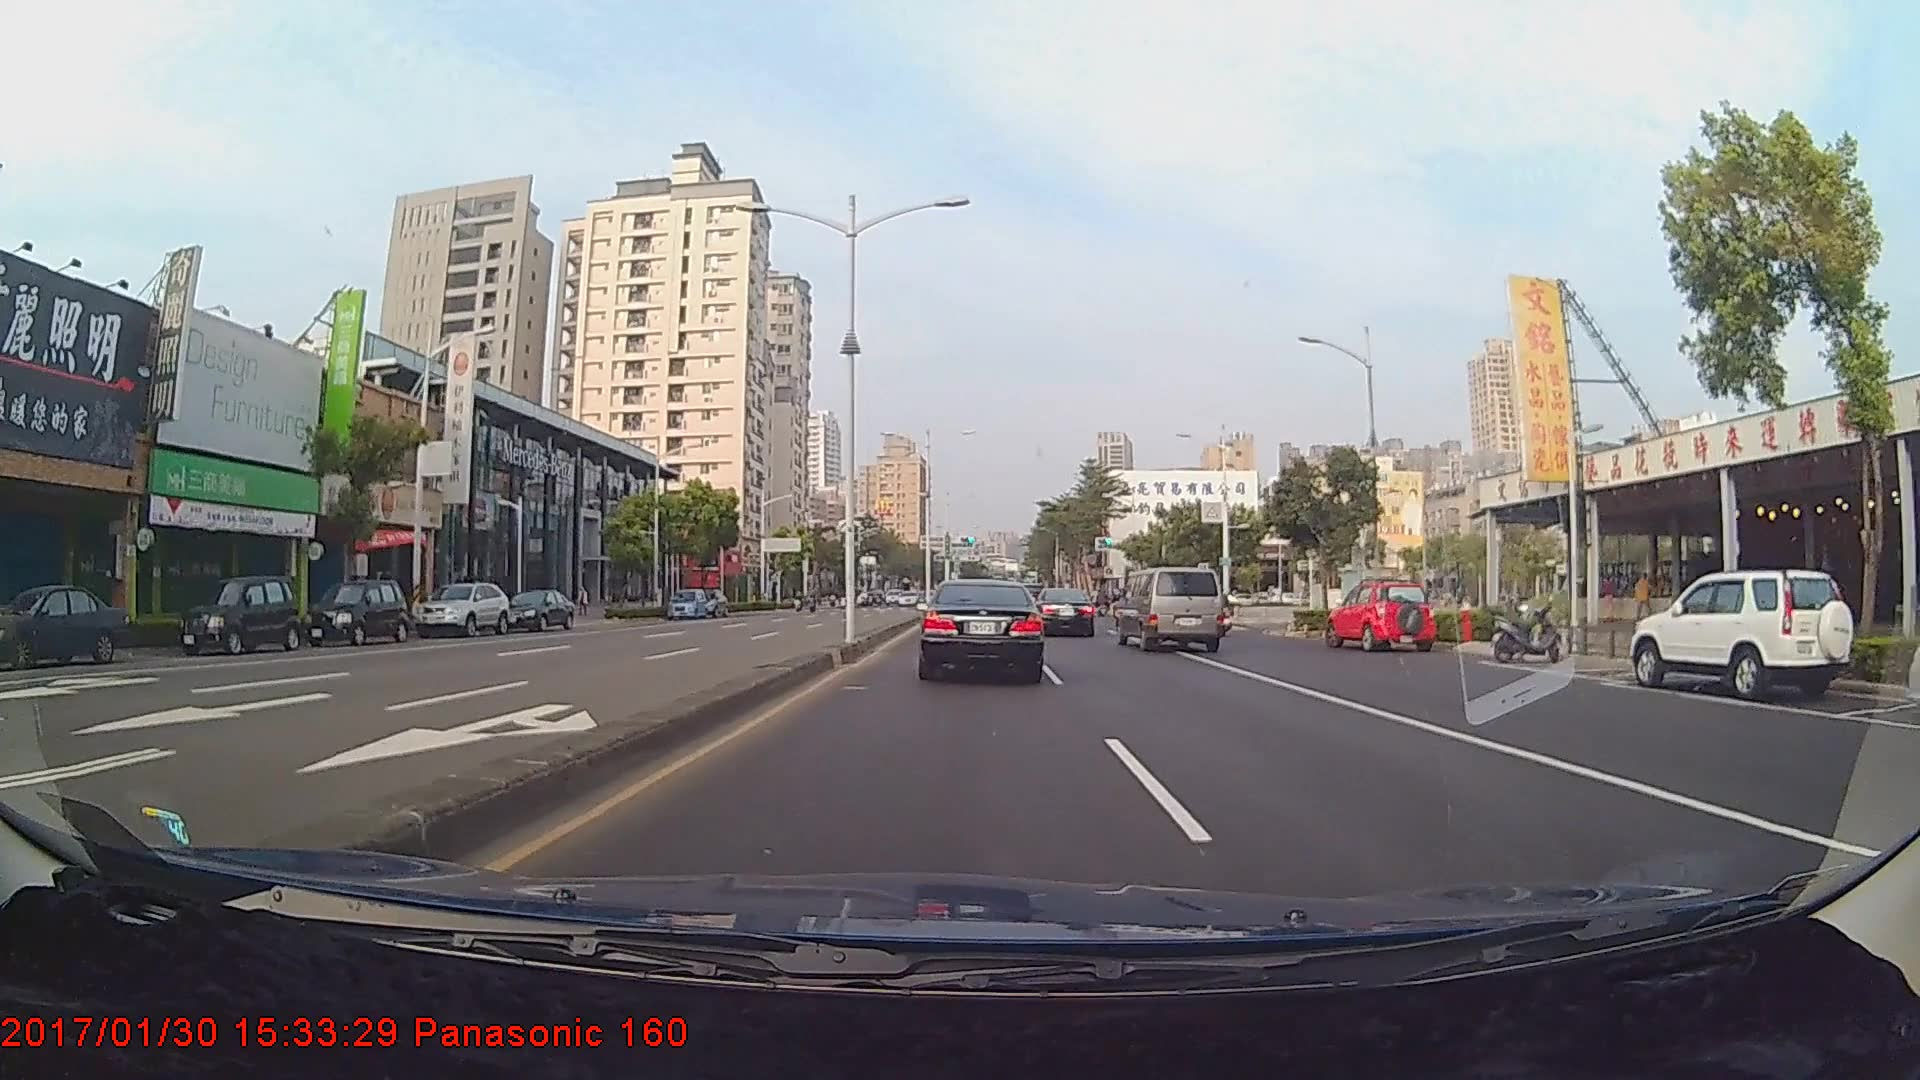vehicle: (1633, 566, 1849, 699), (915, 578, 1044, 680), (0, 582, 131, 667), (174, 574, 301, 654), (1114, 566, 1226, 651), (1328, 578, 1435, 654), (301, 576, 407, 646), (415, 582, 512, 638), (502, 585, 574, 632), (1033, 585, 1096, 637), (665, 589, 709, 618)
